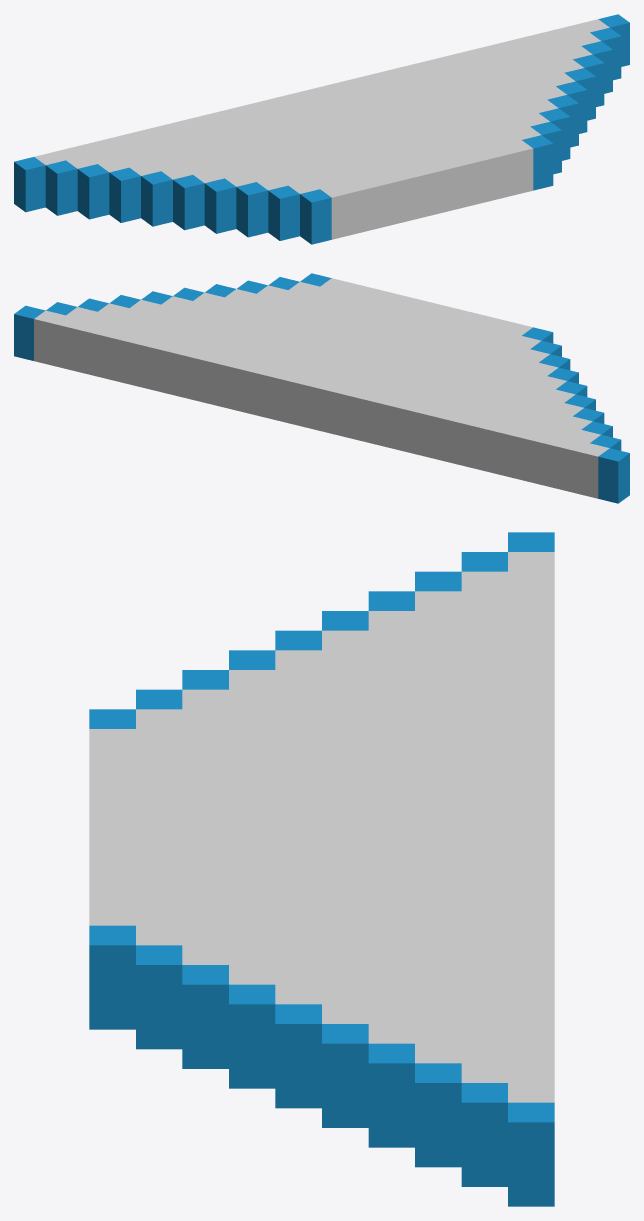
The model's file is DefaultToWideVoxel.fbx.
The picture shows the model from 3 angles, top to bottom: view 1: azimuth 30°, elevation 25°; view 2: azimuth 150°, elevation 25°; view 3: azimuth 270°, elevation 25°; orthographic projection. The views are drawn at different scales.
Parts seen in each view (by area): view 1: Box_1; view 2: Box_1; view 3: Box_1.
Part boxes in pixels (<box>): Box_1: <box>14,14,629,244</box>; Box_1: <box>14,273,629,503</box>; Box_1: <box>89,532,554,1206</box>.
Bounding box in the file's own units: 30 × 2 × 10.
